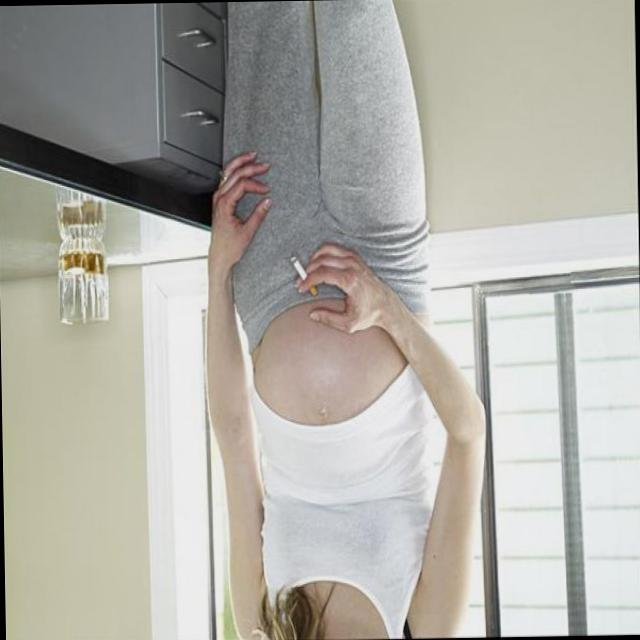smoke: (288, 249, 322, 301)
